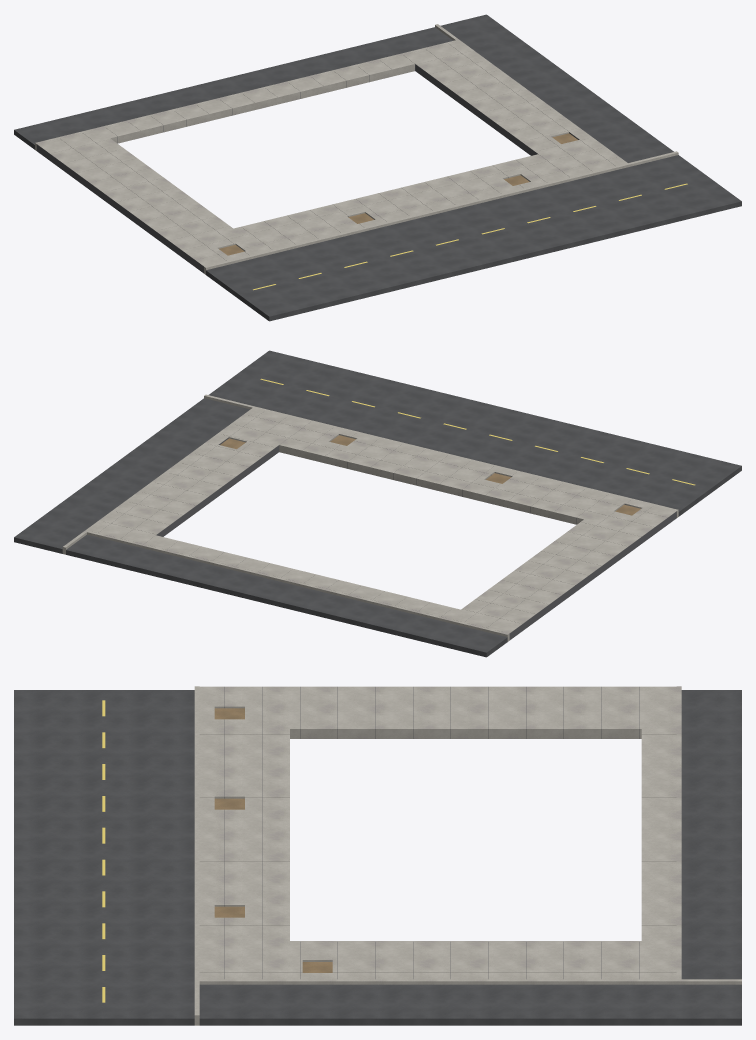
Rendered from site.glb.
3 views of the same model, one above another, from view 1: azimuth 30°, elevation 25°; view 2: azimuth 150°, elevation 25°; view 3: azimuth 270°, elevation 25° (orthographic). The views are drawn at different scales.
Visible parts, largest first — view 1: site_asphalt, site_concrete, site_dark, site_dirt; view 2: site_asphalt, site_concrete, site_dark, site_dirt; view 3: site_asphalt, site_concrete, site_dirt, site_dark, site_paint_y.
Part boxes in pixels (x1=…): site_asphalt: x1=14, y1=14, x2=741, y2=321; site_concrete: x1=35, y1=24, x2=678, y2=274; site_dark: x1=37, y1=64, x2=579, y2=273; site_dirt: x1=219, y1=133, x2=577, y2=255; site_asphalt: x1=14, y1=350, x2=741, y2=657; site_concrete: x1=62, y1=394, x2=678, y2=641; site_dark: x1=156, y1=437, x2=676, y2=640; site_dirt: x1=220, y1=435, x2=640, y2=515; site_asphalt: x1=14, y1=690, x2=741, y2=1025; site_concrete: x1=194, y1=686, x2=741, y2=1025; site_dirt: x1=214, y1=708, x2=332, y2=972; site_dark: x1=224, y1=687, x2=639, y2=978; site_paint_y: x1=102, y1=700, x2=105, y2=1002.
Bounding box in the file's own units: 31 × 0.45 × 29.
Materials: 5 (3 with a texture image).
